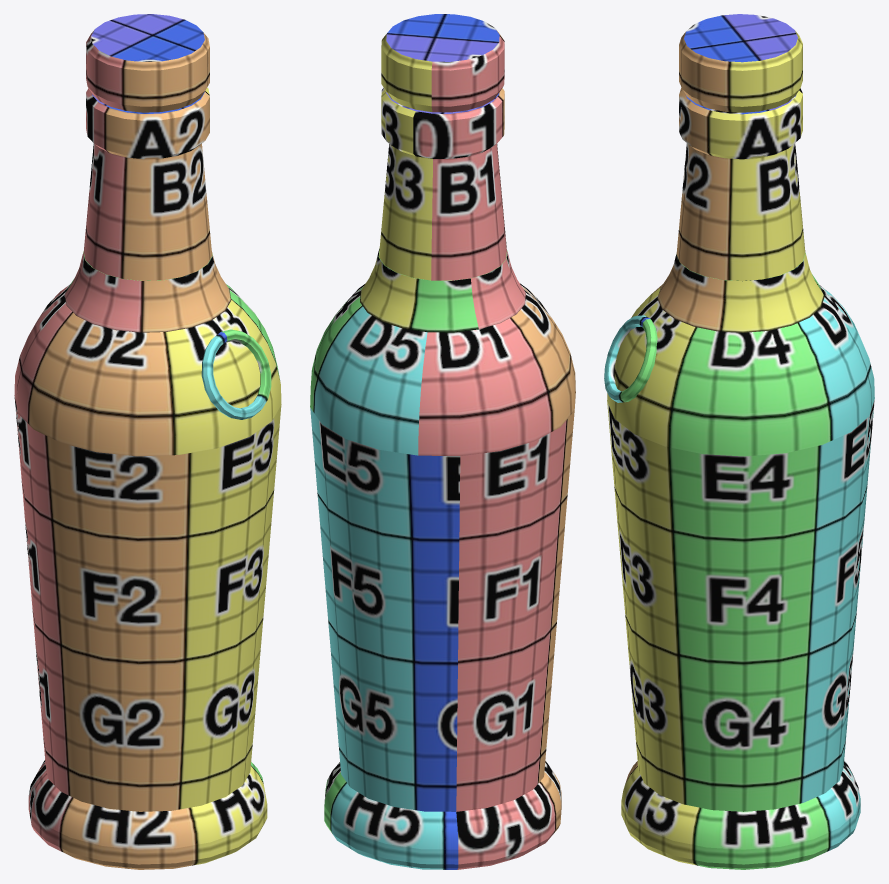
File: GeoTest02WithDifferentCamera.fbx
The picture shows the model from 3 angles, left to right: view 1: azimuth 30°, elevation 25°; view 2: azimuth 150°, elevation 25°; view 3: azimuth 270°, elevation 25°; orthographic projection.
Visible parts, largest first — view 1: pCylinder1, pSphere1, pCylinder2, pSphere2, pCylinder5, pCylinder3, pCylinder4, pTorus1; view 2: pCylinder1, pSphere1, pCylinder2, pSphere2, pCylinder5, pCylinder3, pCylinder4; view 3: pCylinder1, pSphere1, pCylinder2, pSphere2, pCylinder5, pCylinder3, pCylinder4, pTorus1.
Boxes of the visible parts, x1,y1,x2,y2 form: pCylinder1: (14,397,281,811); pSphere1: (14,284,281,456); pCylinder2: (83,143,212,280); pSphere2: (28,760,267,869); pCylinder5: (86,14,209,112); pCylinder3: (64,251,231,332); pCylinder4: (86,87,209,159); pTorus1: (201,329,271,419); pCylinder1: (310,408,574,811); pSphere1: (310,283,575,455); pCylinder2: (379,144,506,280); pSphere2: (324,760,561,869); pCylinder5: (381,14,504,112); pCylinder3: (360,248,525,332); pCylinder4: (381,87,504,158); pCylinder1: (607,400,874,811); pSphere1: (607,284,874,456); pCylinder2: (676,143,805,280); pSphere2: (621,761,860,869); pCylinder5: (679,14,802,112); pCylinder3: (657,253,824,332); pCylinder4: (679,87,802,159); pTorus1: (604,315,657,402).
Bounding box in the file's own units: 4.88 × 15.81 × 4.94.
1 material, 1 textured.
